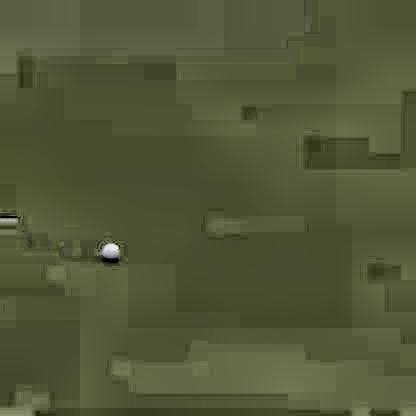golfball: (98, 240, 118, 260)
